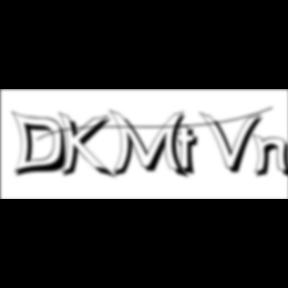D: (12, 110, 74, 180)
K: (60, 110, 119, 182)
M: (109, 108, 193, 181)
V: (200, 110, 266, 176)
t: (176, 124, 206, 179)
